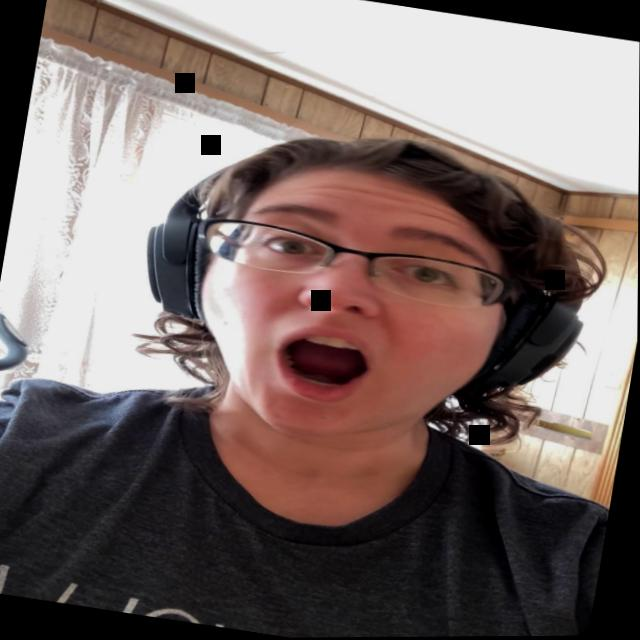NO-Mask: (177, 142, 528, 467)
